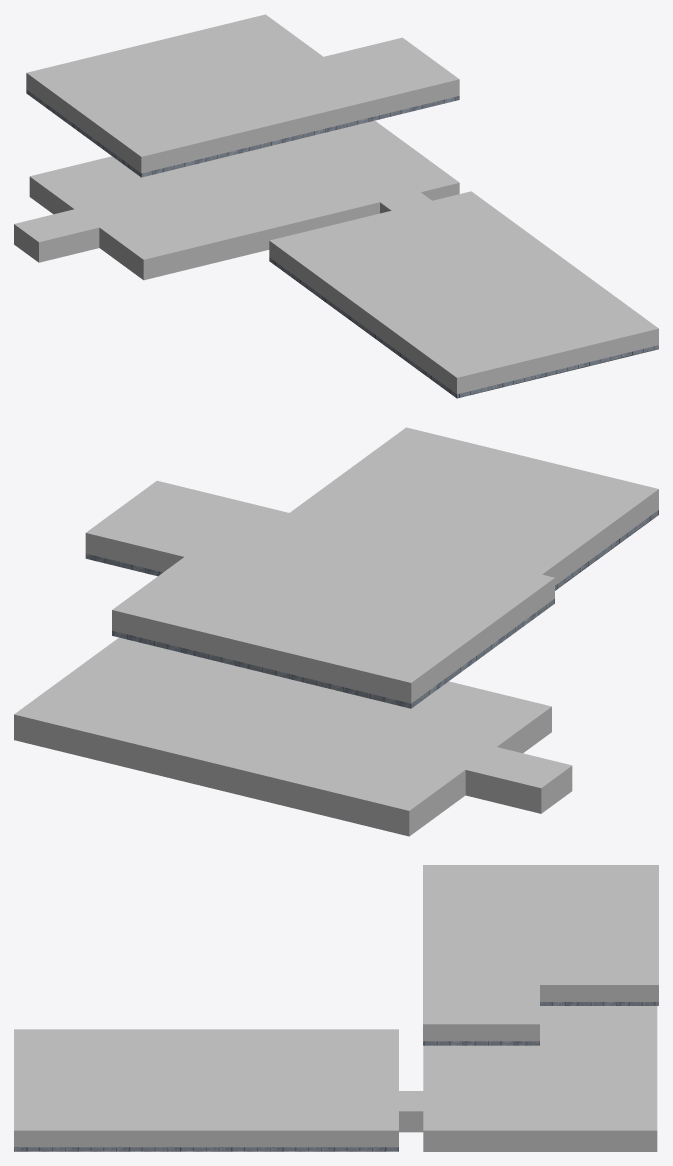
File: BlacksmithFloor.fbx
3 views of the same model, one above another, from view 1: azimuth 30°, elevation 25°; view 2: azimuth 150°, elevation 25°; view 3: azimuth 270°, elevation 25° (orthographic). The views are drawn at different scales.
Visible parts, largest first — view 1: block (×6); view 2: block (×5); view 3: block (×5).
Boxes of the visible parts, bbox=[...] form: block (×6): bbox=[14, 14, 658, 398]; block (×5): bbox=[14, 427, 658, 836]; block (×5): bbox=[14, 865, 658, 1151].
Bounding box in the file's own units: 87.12 × 27.41 × 126.
